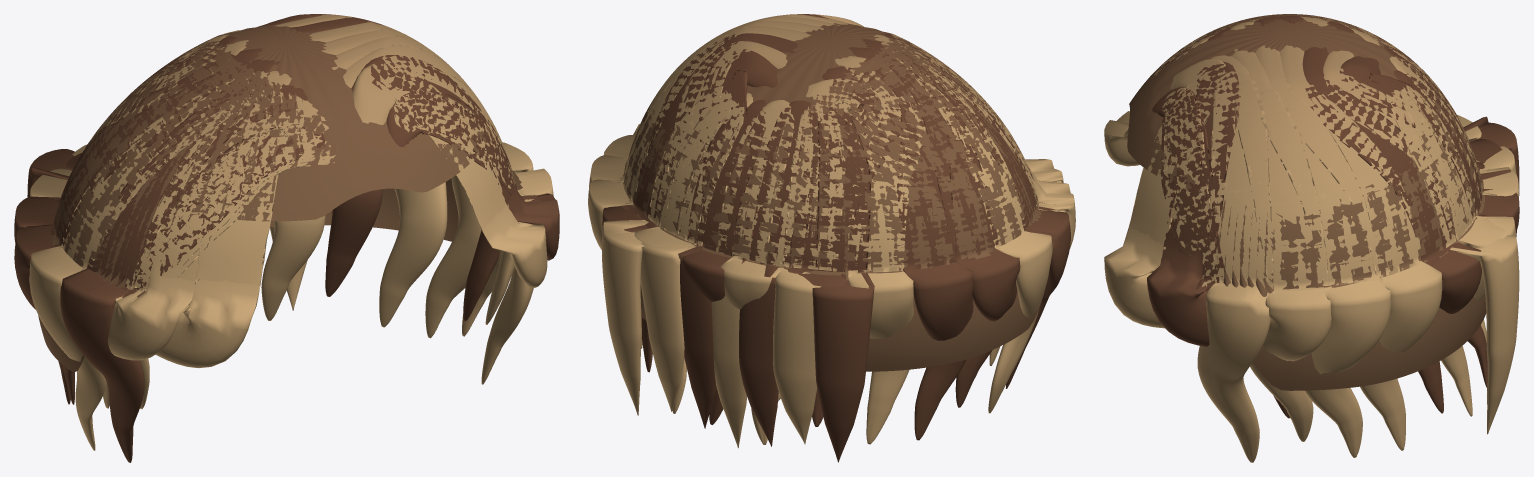
Rendered from Highlights-f1e9d77cfaa0251-hair.glb.
The picture shows the model from 3 angles, left to right: view 1: azimuth 30°, elevation 25°; view 2: azimuth 150°, elevation 25°; view 3: azimuth 270°, elevation 25°; orthographic projection. The views are drawn at different scales.
Visible parts, largest first — view 1: 226 hair / Hair / main251.001, 226 hair / Hair / accent251.001, 226 hair / Hair / recessed roots251.001; view 2: 226 hair / Hair / main251.001, 226 hair / Hair / accent251.001, 226 hair / Hair / recessed roots251.001; view 3: 226 hair / Hair / main251.001, 226 hair / Hair / accent251.001, 226 hair / Hair / recessed roots251.001.
Boxes of the visible parts, x1,y1,x2,y2 form: 226 hair / Hair / main251.001: [14, 14, 559, 462]; 226 hair / Hair / accent251.001: [29, 14, 553, 450]; 226 hair / Hair / recessed roots251.001: [38, 25, 522, 372]; 226 hair / Hair / main251.001: [589, 14, 1070, 462]; 226 hair / Hair / accent251.001: [588, 14, 1075, 448]; 226 hair / Hair / recessed roots251.001: [619, 23, 1044, 371]; 226 hair / Hair / main251.001: [1104, 14, 1519, 457]; 226 hair / Hair / accent251.001: [1104, 14, 1519, 462]; 226 hair / Hair / recessed roots251.001: [1127, 14, 1486, 390].
Size of the model in its own units: 1.11 by 0.832 by 0.8725.
